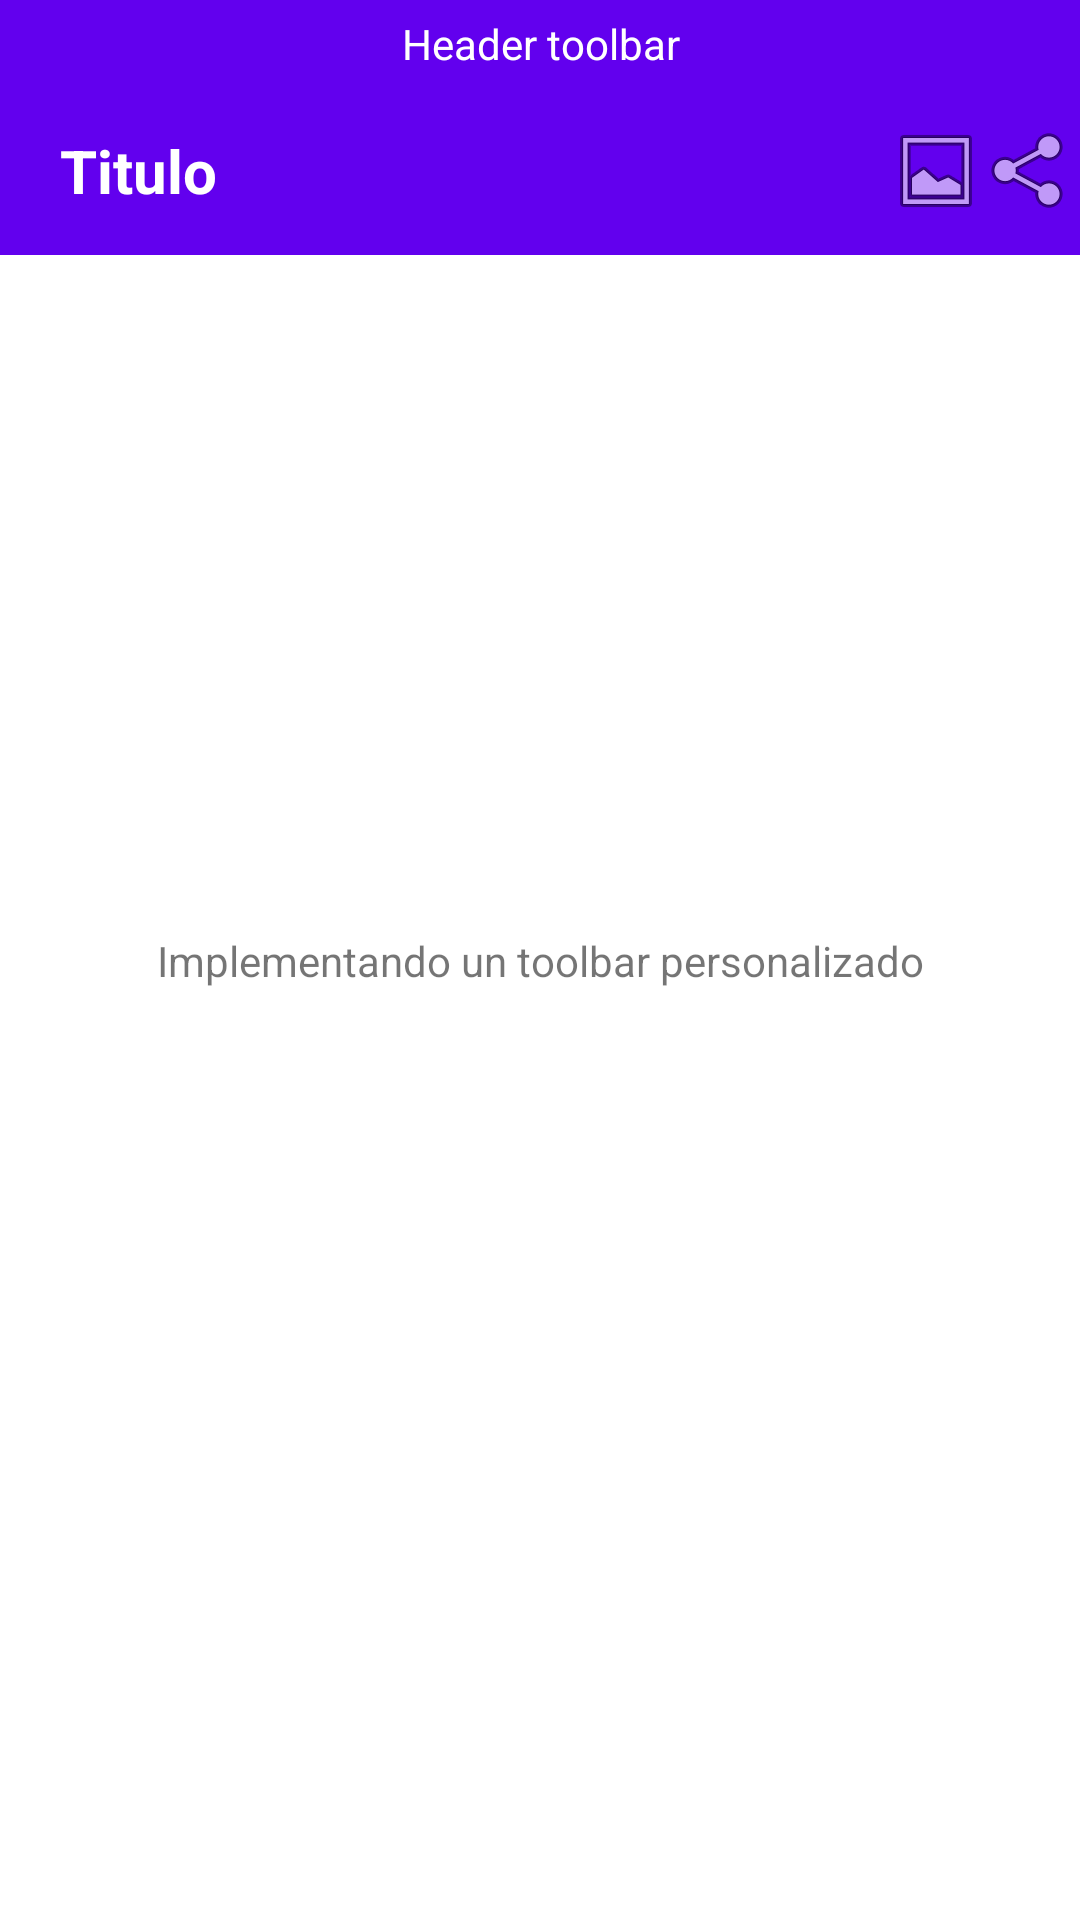

Icons on this 1080 × 1920 Android screen, each with the point to tap as (x,y):
gallery: (936,171)
share: (1027,170)
